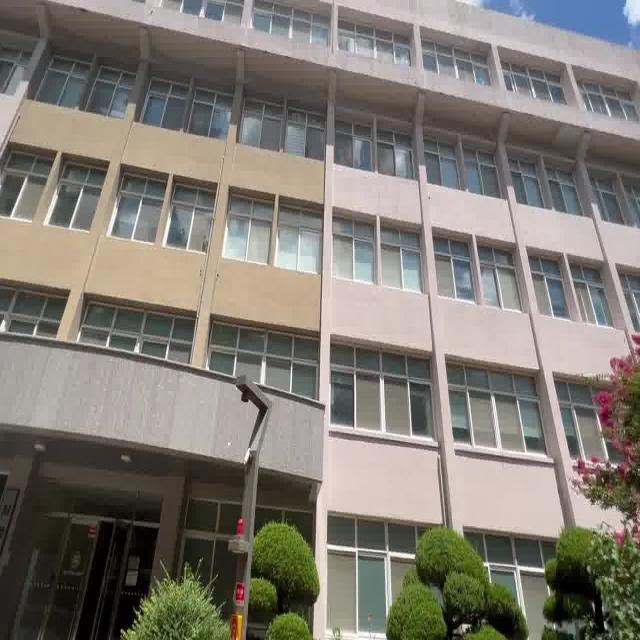building: (3, 0, 563, 536)
